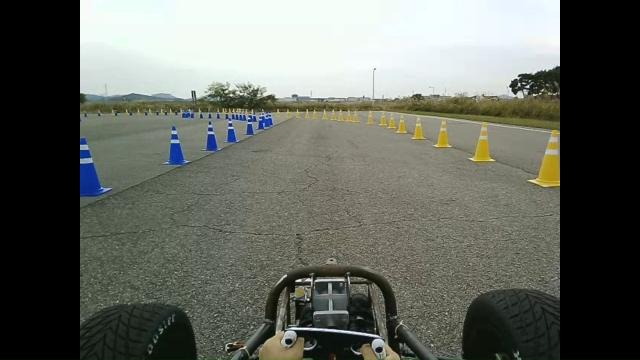blue cone: (80, 137, 112, 197), (162, 125, 190, 165), (201, 120, 222, 151), (224, 118, 238, 143), (244, 121, 256, 135)
yellow cone: (526, 129, 560, 187), (468, 121, 495, 162), (433, 119, 452, 148), (411, 116, 426, 139), (396, 114, 407, 133), (386, 112, 397, 129), (378, 112, 387, 126), (366, 109, 374, 124)
